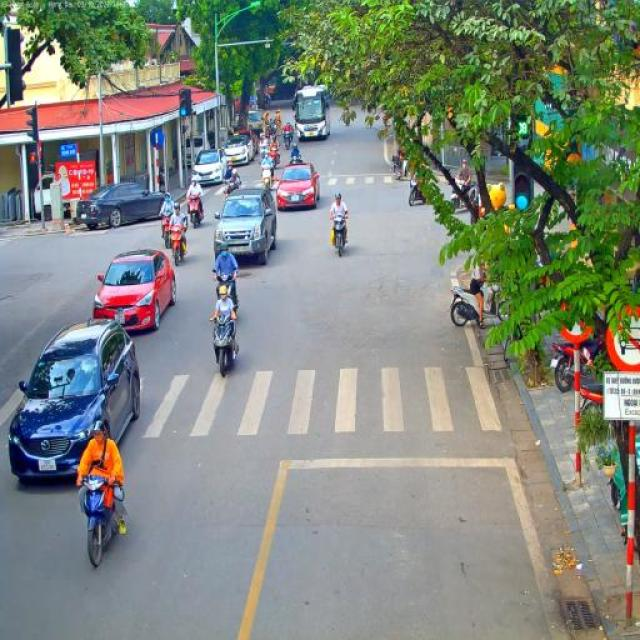bus: (530, 90, 590, 176), (292, 83, 332, 142)
car: (8, 319, 142, 485), (92, 248, 177, 332), (213, 187, 278, 266), (76, 181, 168, 230), (275, 161, 320, 211), (192, 148, 228, 187), (222, 132, 254, 167), (234, 129, 256, 159)
motorcycle: (79, 472, 126, 570), (551, 320, 603, 392), (449, 286, 509, 328), (210, 313, 240, 378), (212, 272, 240, 313), (576, 378, 605, 414), (451, 174, 477, 210), (168, 224, 188, 266), (331, 215, 347, 257), (408, 172, 426, 206), (390, 155, 410, 181), (188, 196, 202, 230), (222, 179, 242, 201), (161, 212, 173, 248), (261, 164, 273, 190), (270, 146, 280, 170), (257, 143, 268, 162), (282, 131, 292, 151), (288, 157, 304, 165)
truck: (34, 176, 77, 224), (242, 110, 263, 148)
